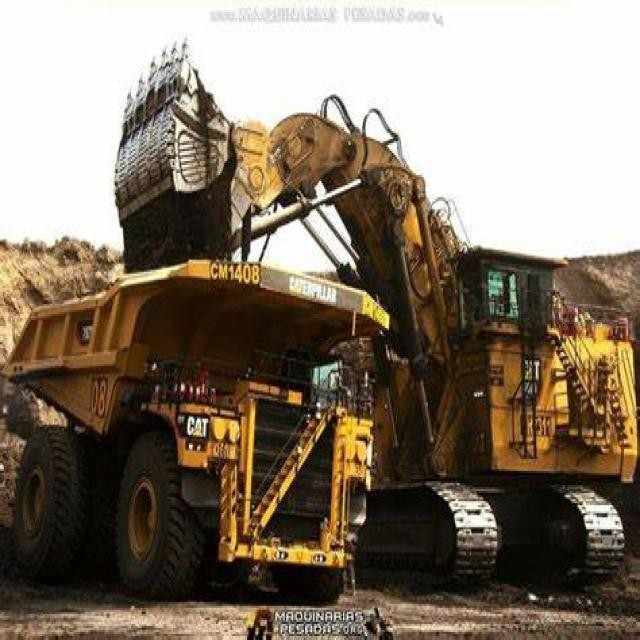dump_truck: (15, 257, 390, 604)
